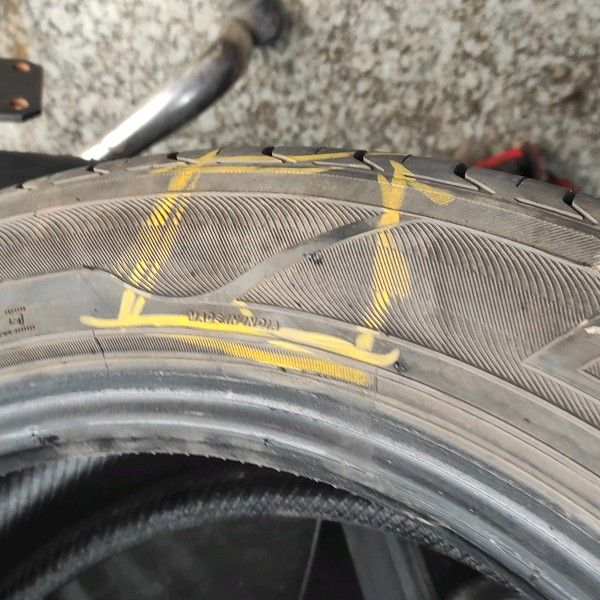CBU: (200, 205, 338, 302)
